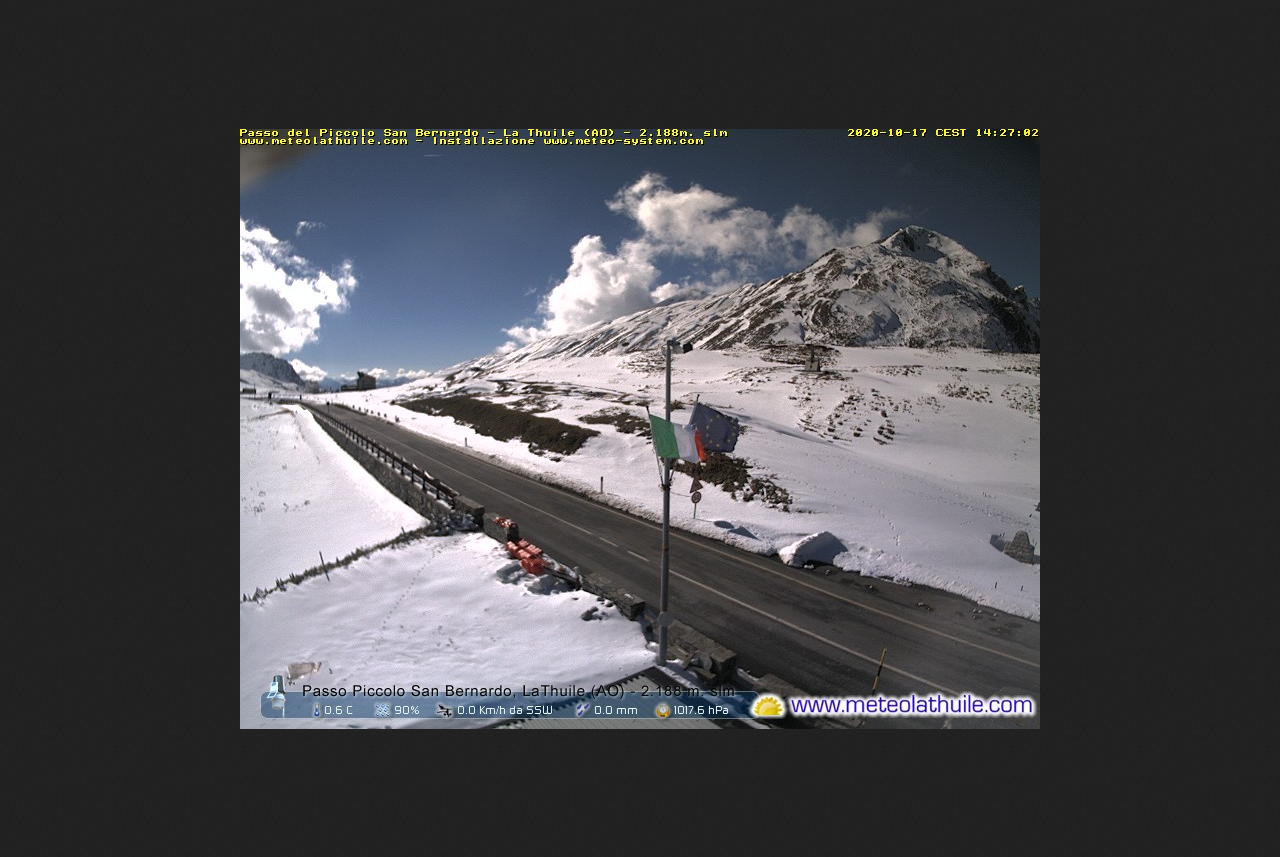yes: (651, 412, 707, 464), (691, 403, 740, 454)
